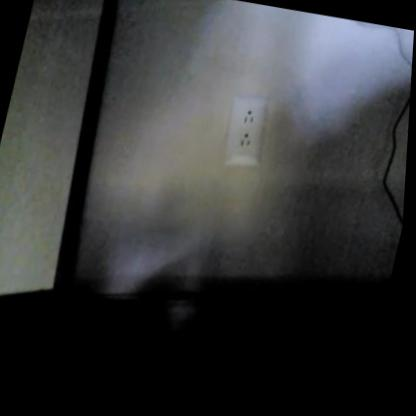OUTLET: (217, 89, 276, 171)
